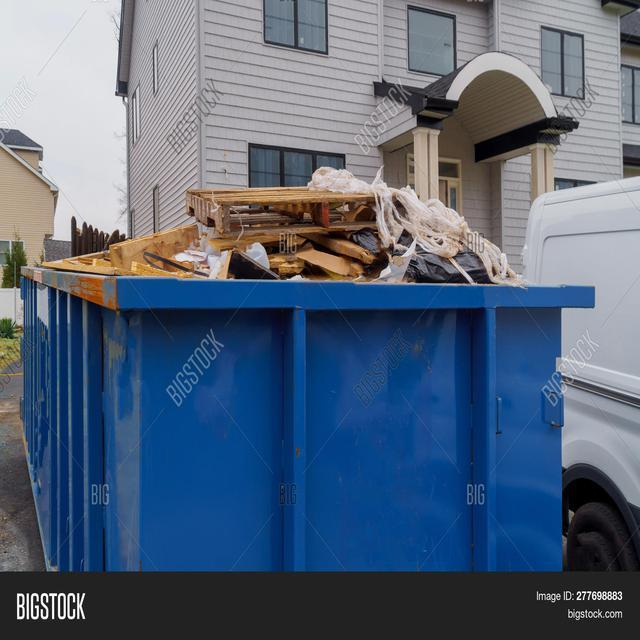garbage: (28, 160, 554, 312)
